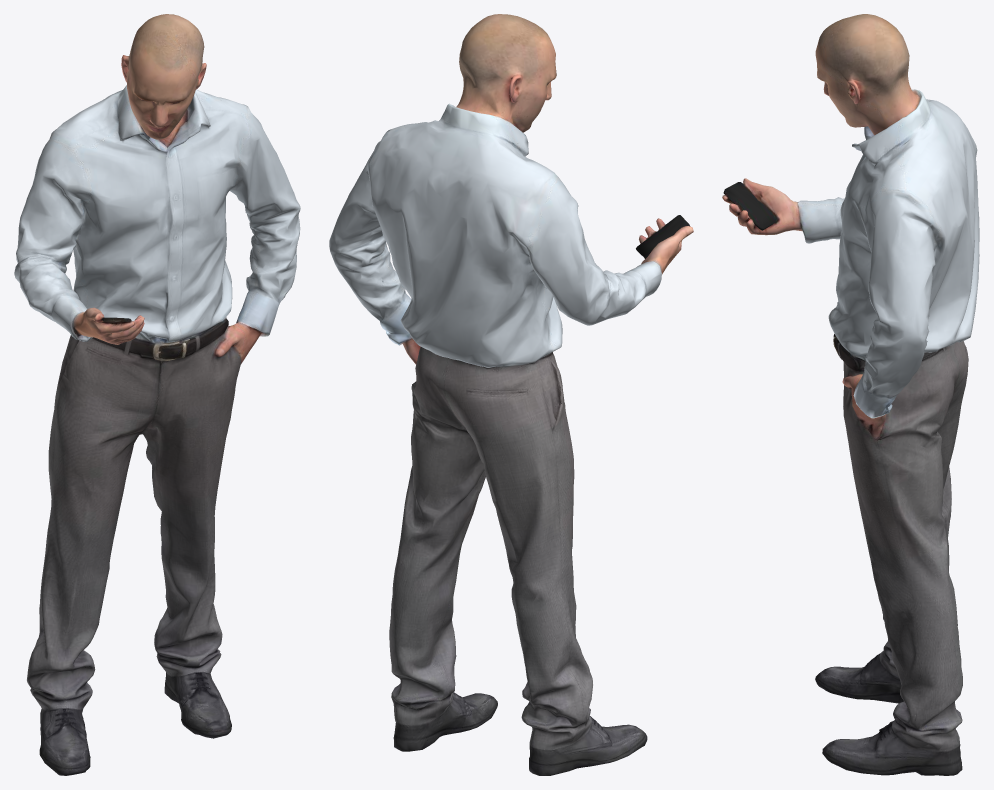
The model's file is BusinessMan.dae.
3 renders of one model, left to right at view 1: azimuth 30°, elevation 25°; view 2: azimuth 150°, elevation 25°; view 3: azimuth 270°, elevation 25°, orthographic.
Parts seen in each view (by area): view 1: skpA75D; view 2: skpA75D; view 3: skpA75D.
Part boxes in pixels (x1,y1,x2,y2): skpA75D: [14, 14, 300, 775]; skpA75D: [329, 14, 693, 775]; skpA75D: [722, 14, 979, 775].
Size of the model in its own units: 27.28 by 20.98 by 65.35.
1 material, 1 textured.
